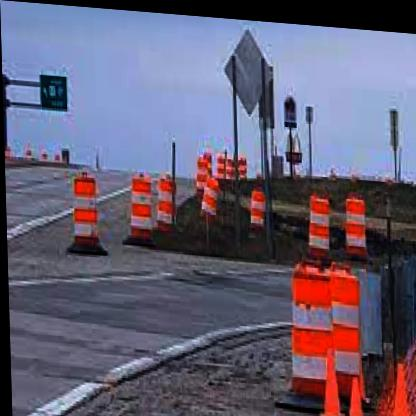obstacle: (282, 235, 340, 397), (68, 168, 101, 254), (126, 169, 156, 245)
